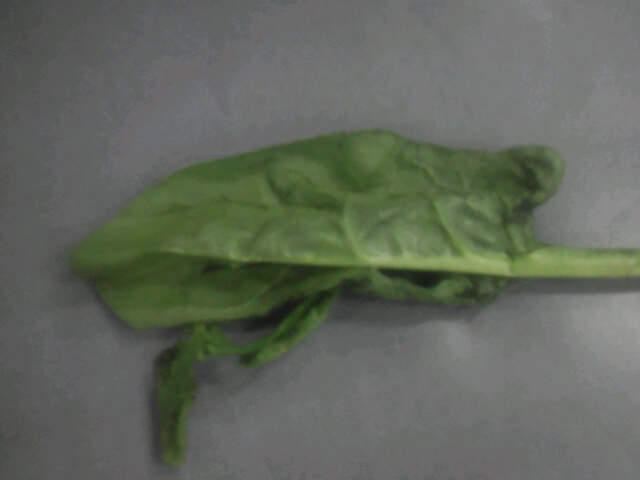yellow: (67, 95, 598, 441)
